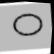no answer: (4, 7, 44, 42)
